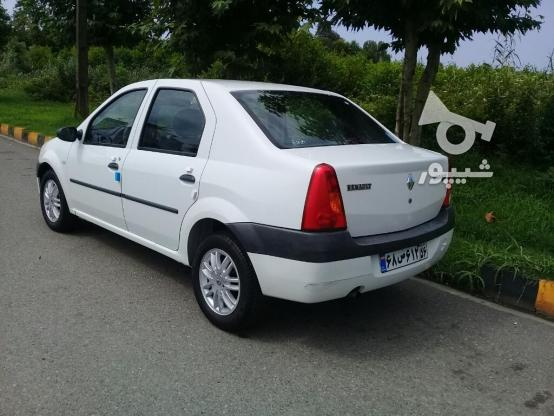car: (375, 242, 432, 274)
